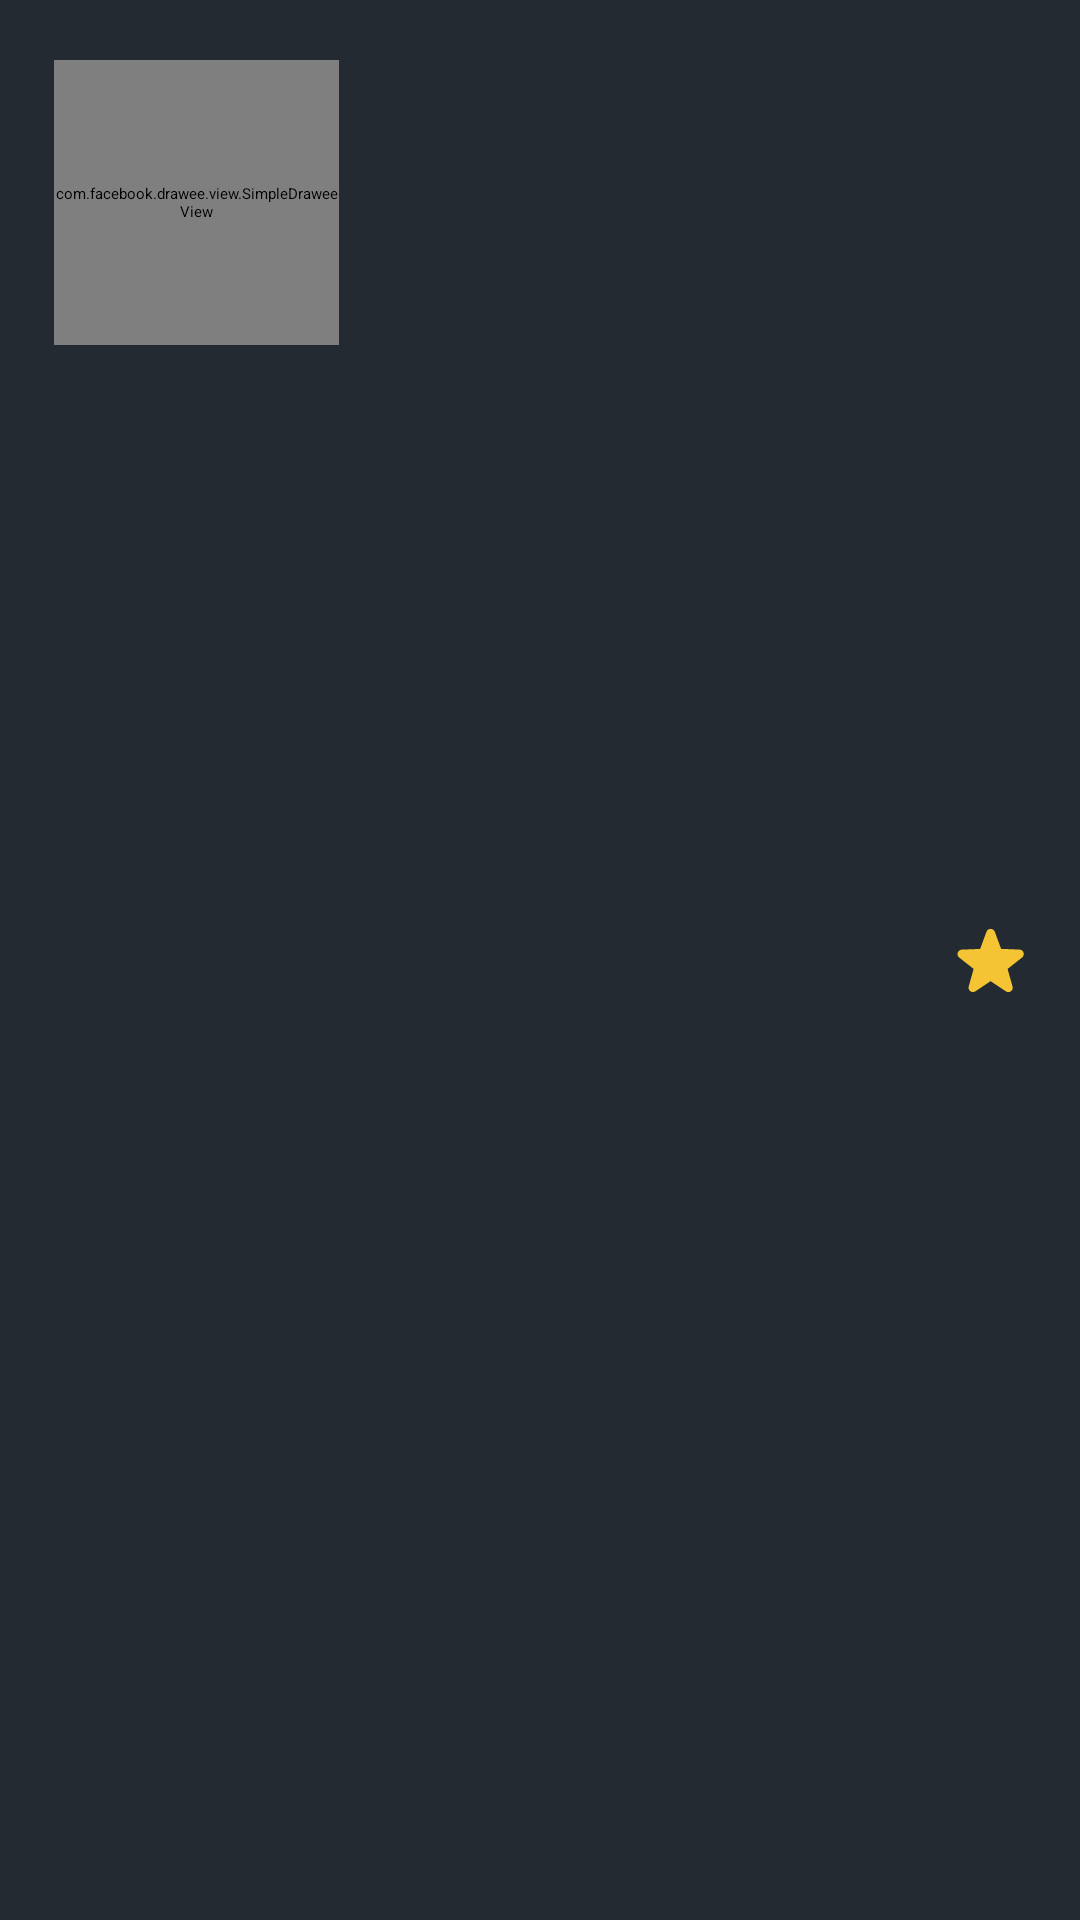

Point at icon controls on the screen. Image size 1080×1920, points as (x,y).
star: (990,960)
